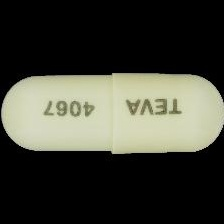63629-5007: (0, 0, 224, 224)
